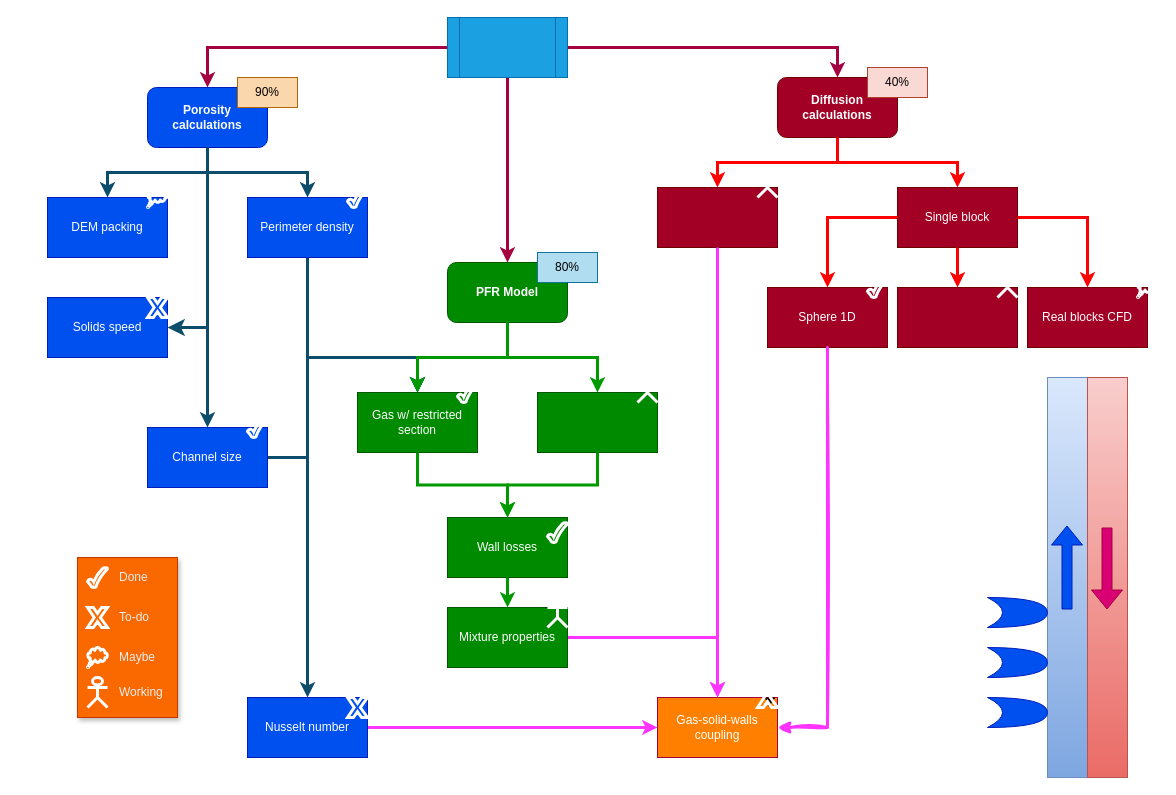
The diagram is 1176 pixels wide and 795 high, and some of its shapes have lost their labels. The centre of each missing label's shape, as x and y in pixels:
Axial dispersion (diffusion-advection): the point at 717,217
Counter-current PFR with porous medium: the point at 507,47
Side sources: the point at 597,422
Sphere CFD: the point at 957,317
